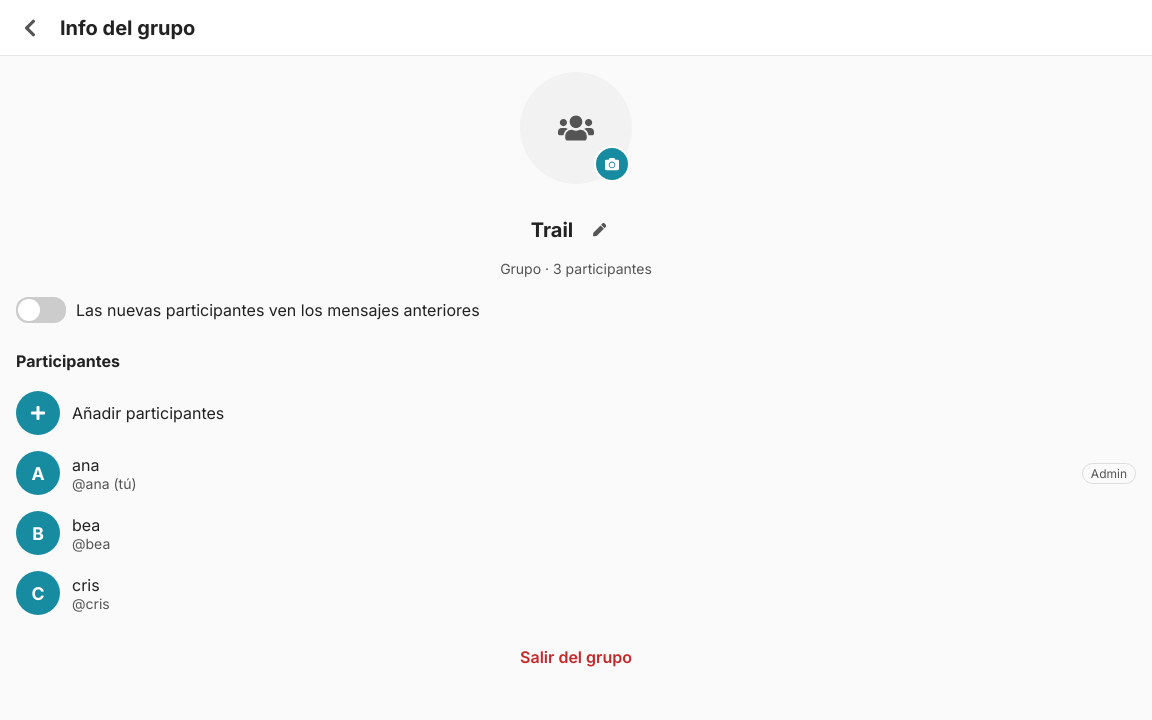
GroupInfoPanel (T12, T29r) › shows the server reason inside the sheet when an action is refused
Step 1. Click the button with aria-label "Opciones de bea" → (38,533), box [0, 503, 1151, 563]
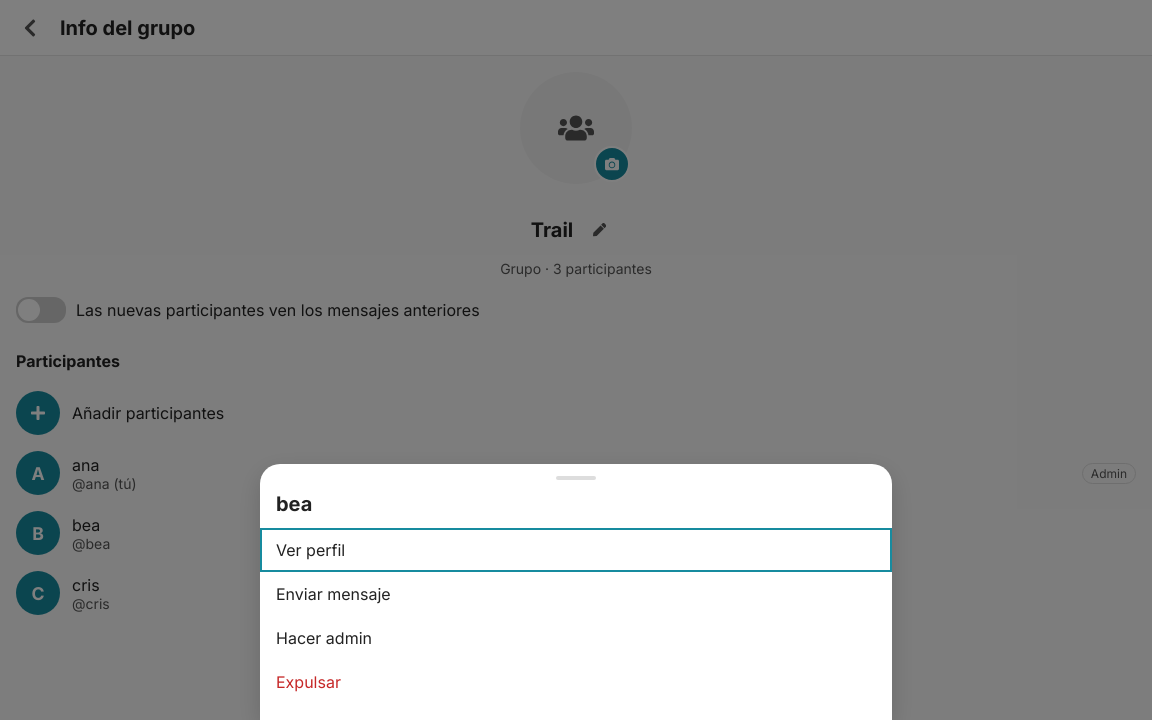
Step 2. Click the button "Hacer admin" → (324,638), box [260, 616, 892, 660]
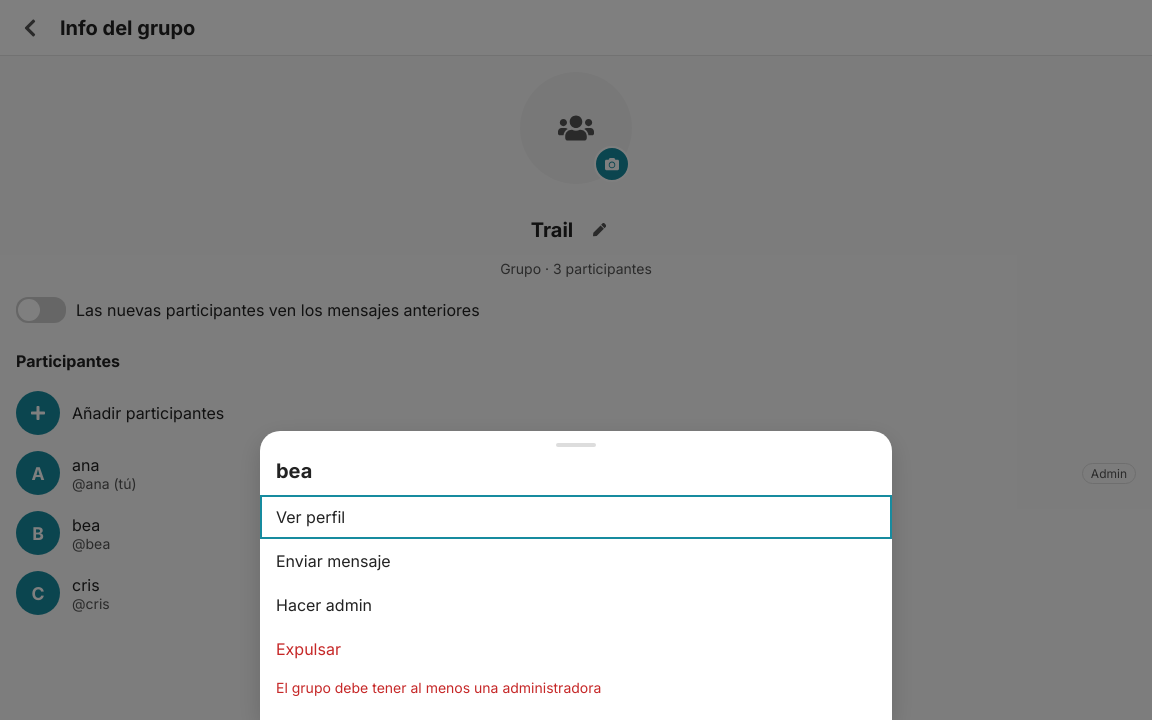
Now the message shows "al menos una administradora", box [276, 679, 601, 696]
